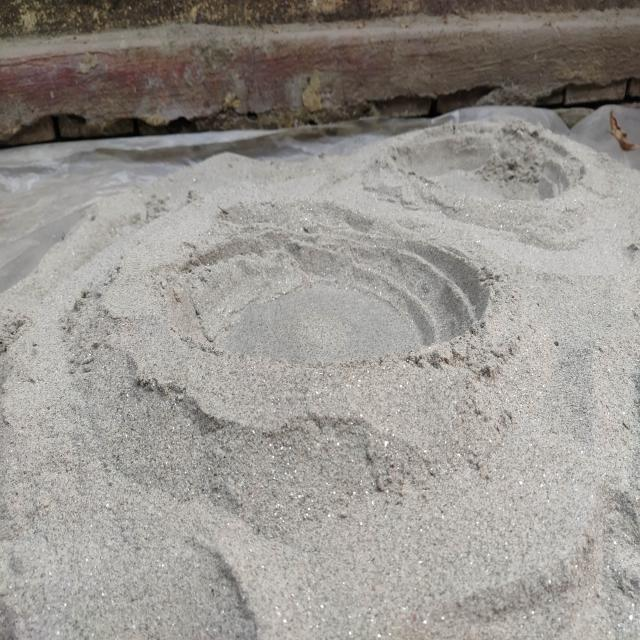C20: (190, 237, 481, 369), (411, 128, 584, 205)
